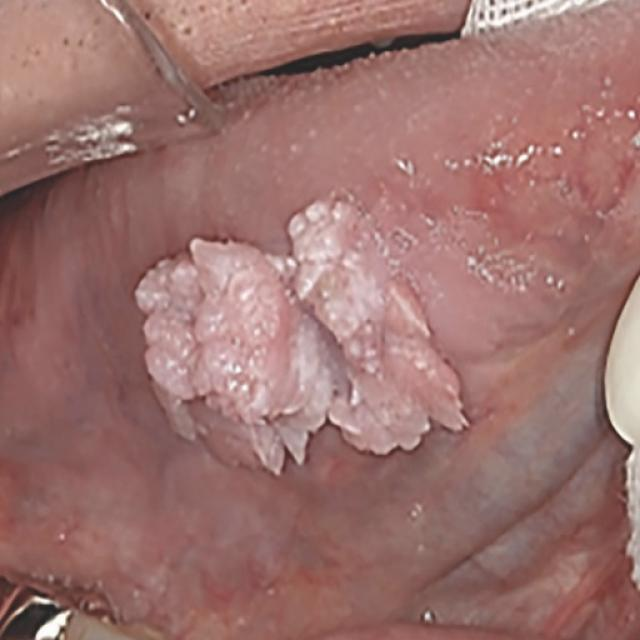leukoplakia-like-detection: (131, 193, 502, 489)
processing_area: (3, 4, 639, 639)
